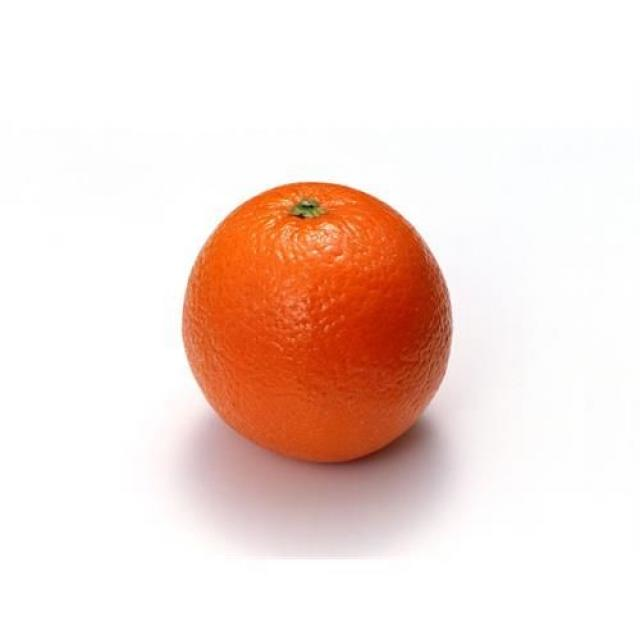Orange: (172, 179, 458, 473)
